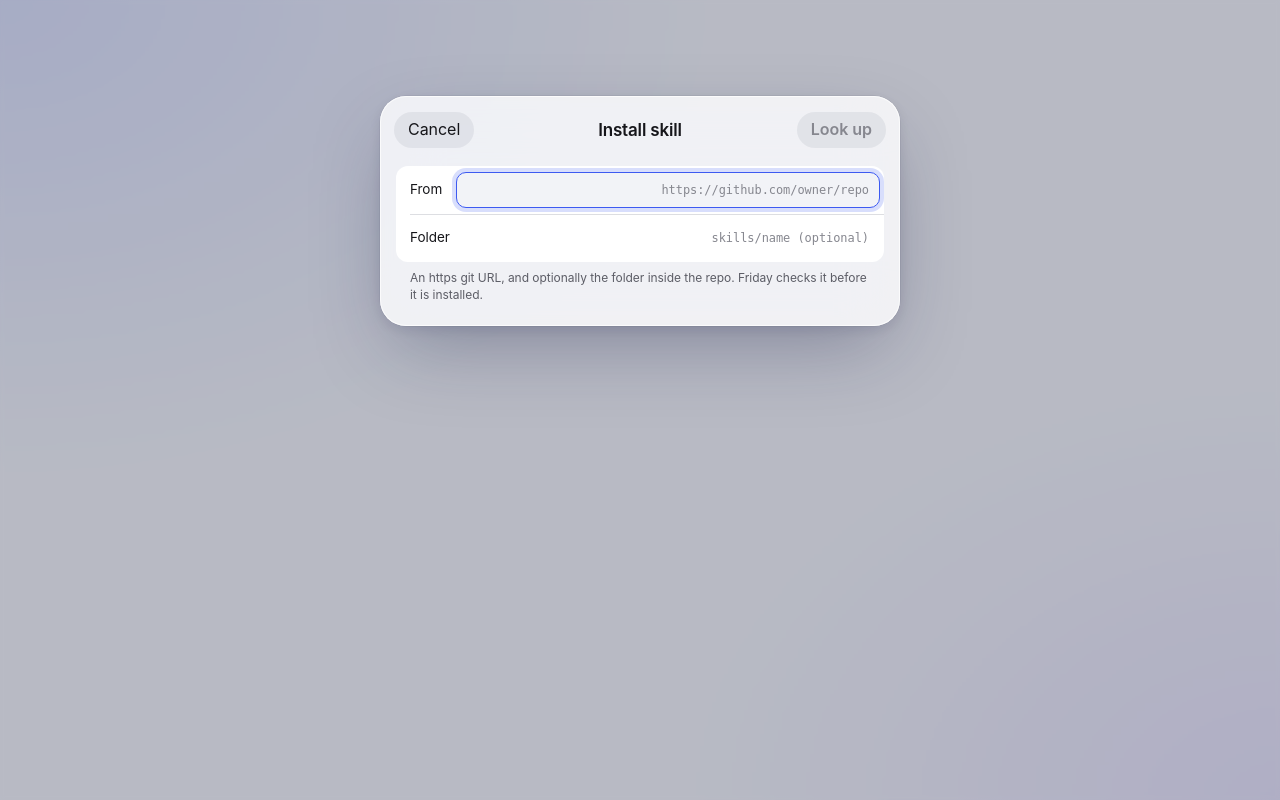
an http source shows the server's field error and no result
The image size is (1280, 800).
In the field labelled "From": x=668, y=190 left=456, top=172, right=880, bottom=208, type "http://github.com/o/r"
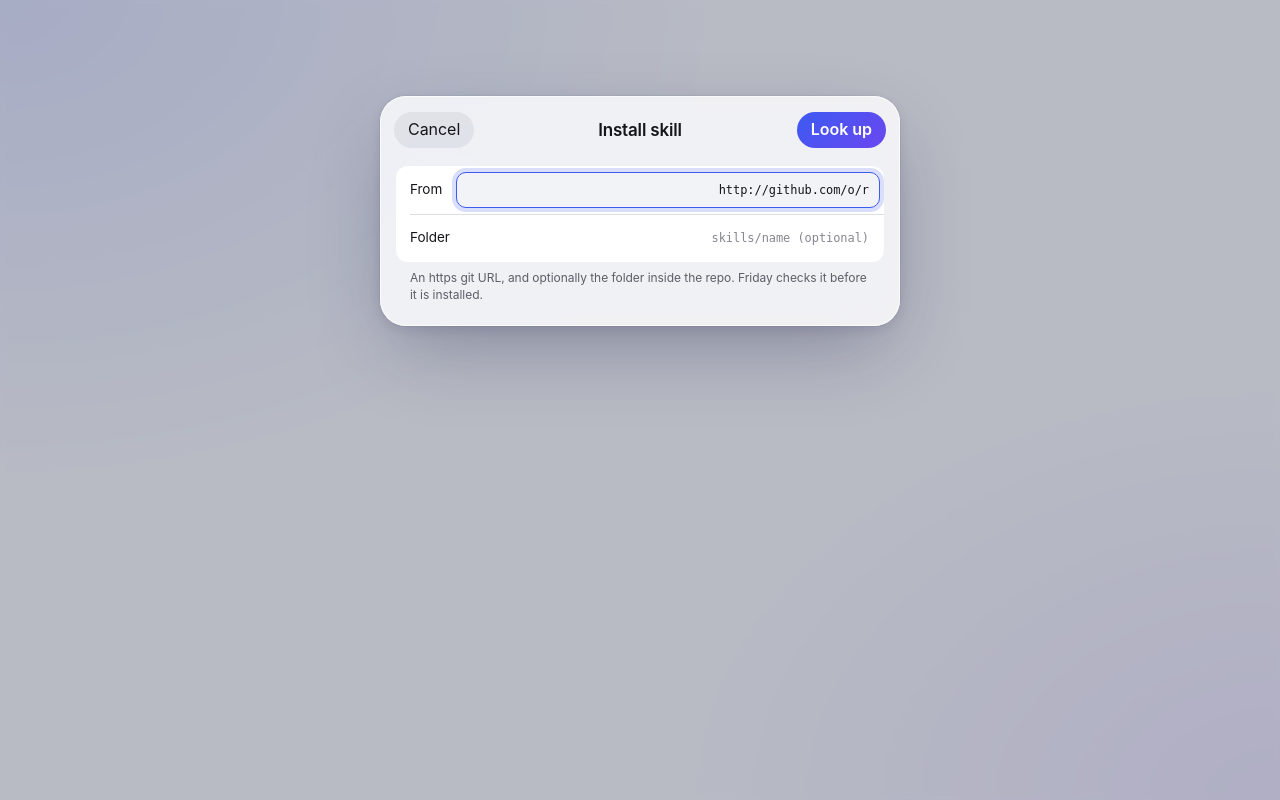
Click the button "Look up": x=841, y=130 left=797, top=112, right=886, bottom=148
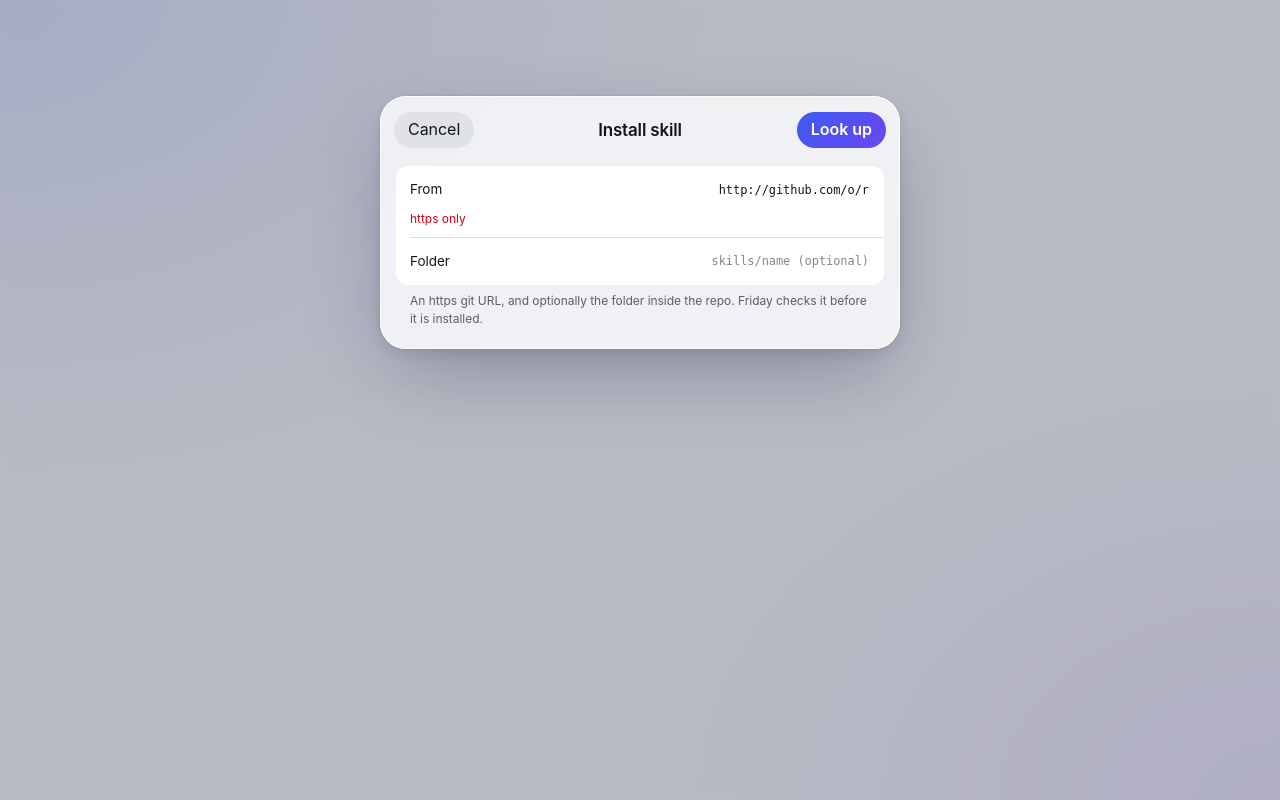
Now the text "https only" is shown, box left=410, top=211, right=466, bottom=226
